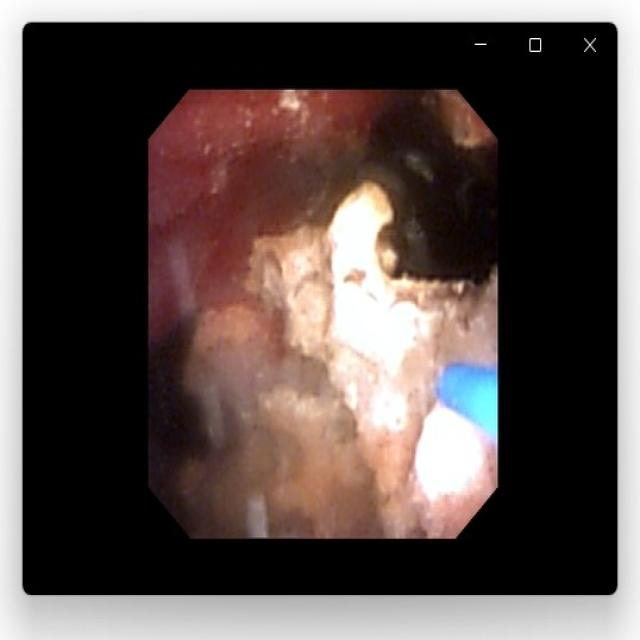fiber: (444, 367, 491, 433)
stone: (157, 176, 493, 534)
